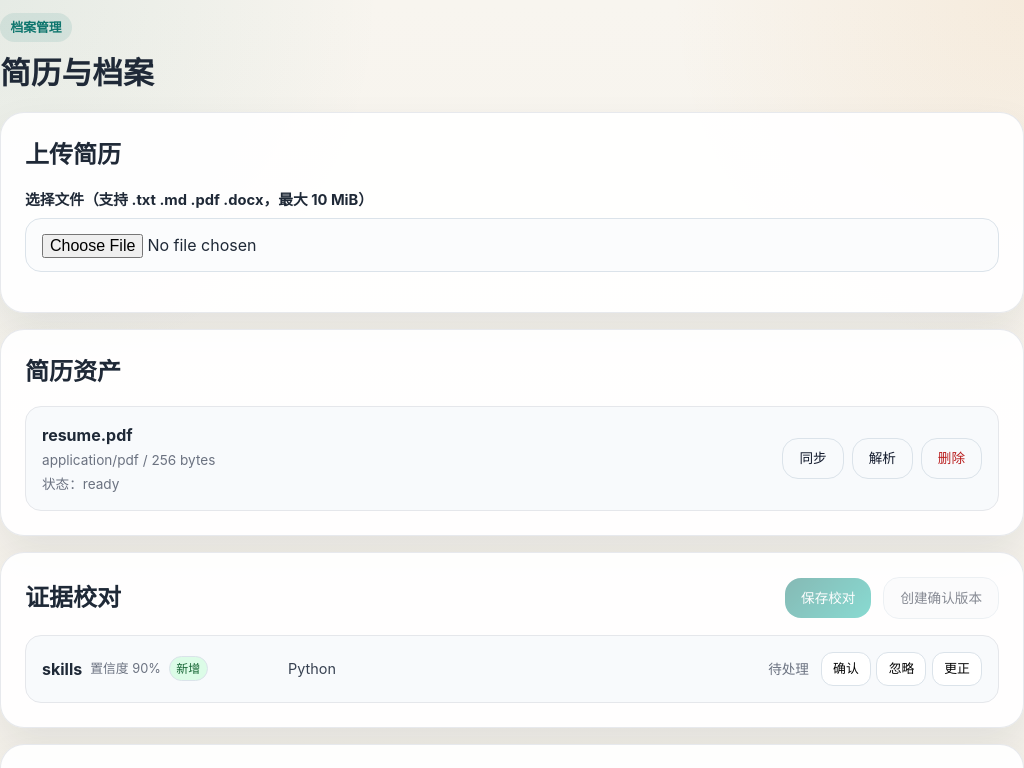
Test: ProfileWorkspace › surfaces a delete failure with a default message when none is provided
The width and height of the screenshot is (1024, 768).
What coordinates should you click on to do the following:
click the button with test id "delete-asset"
I would click on:
 (951, 459)
Its box is x1=921 y1=438 x2=982 y2=480.
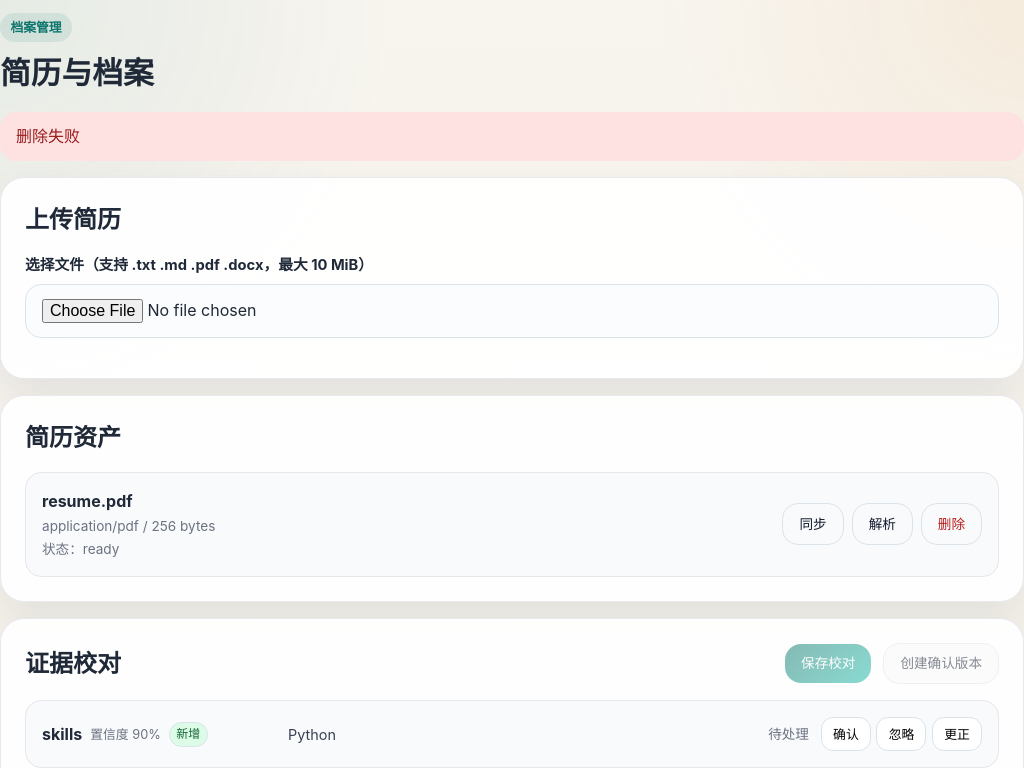
expect the text "删除失败" is shown: met, box x1=0 y1=112 x2=1023 y2=161
